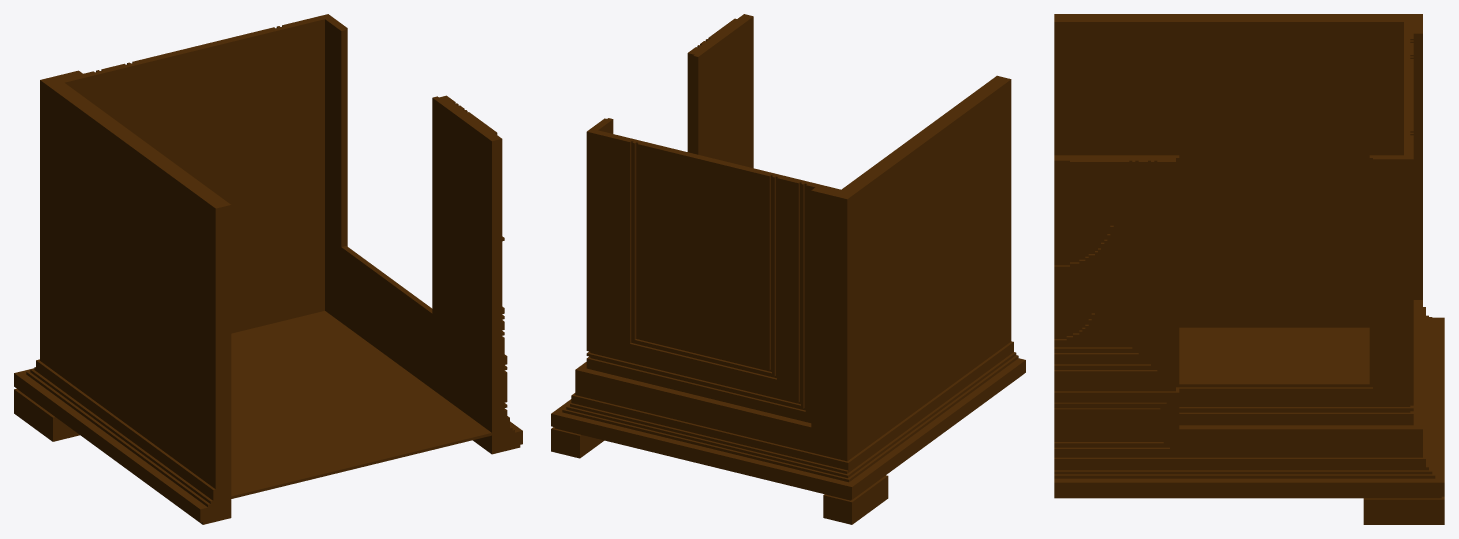
File: armoire_bas_droite.obj
3 renders of one model, left to right at view 1: azimuth 30°, elevation 25°; view 2: azimuth 150°, elevation 25°; view 3: azimuth 270°, elevation 25°, orthographic. The views are drawn at different scales.
Bounding box in the file's own units: 125 × 125 × 125.
1 material, 1 textured.
